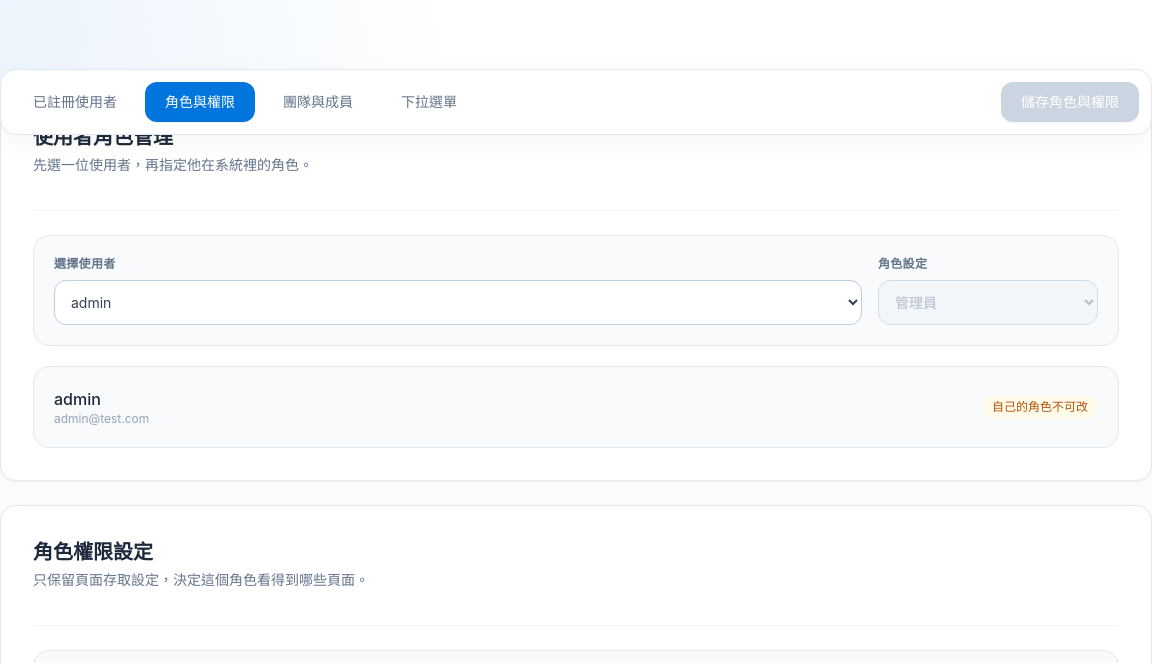
Test case: SettingsPage › organizes settings tabs with registered users before role permissions and without ai tab
Click the button "已註冊使用者" at (75, 102), box [13,82,137,122]
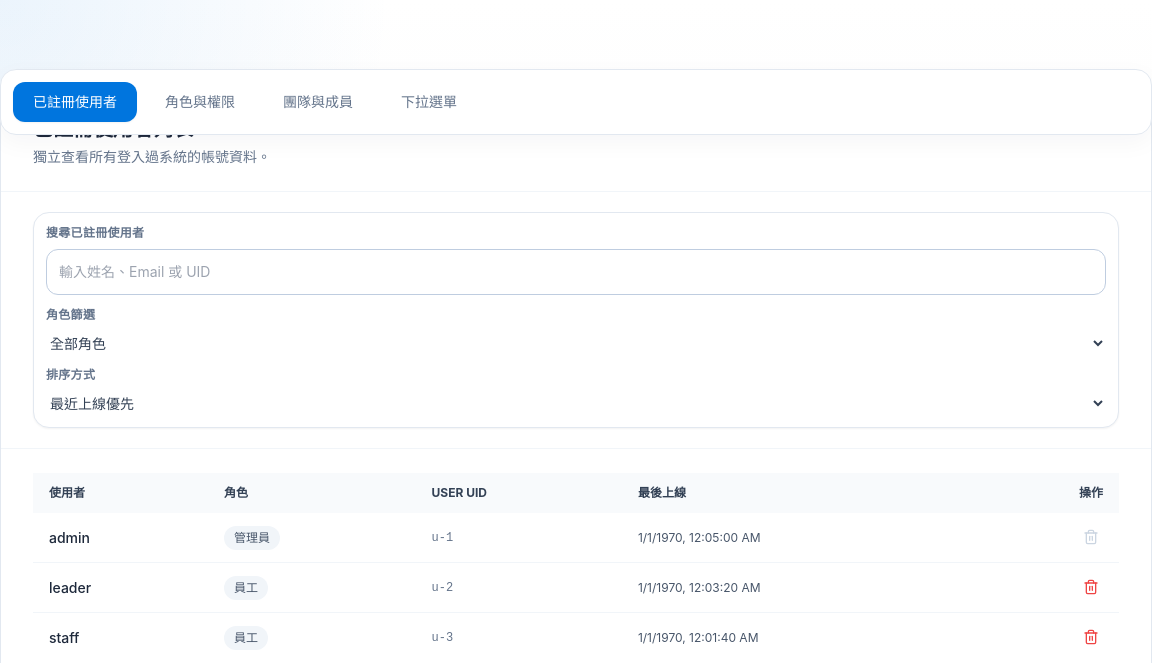
Now the heading "已註冊使用者列表" is shown, box [33,117,193,141]
Click the button "下拉選單" at (429, 102), box [381,82,477,122]
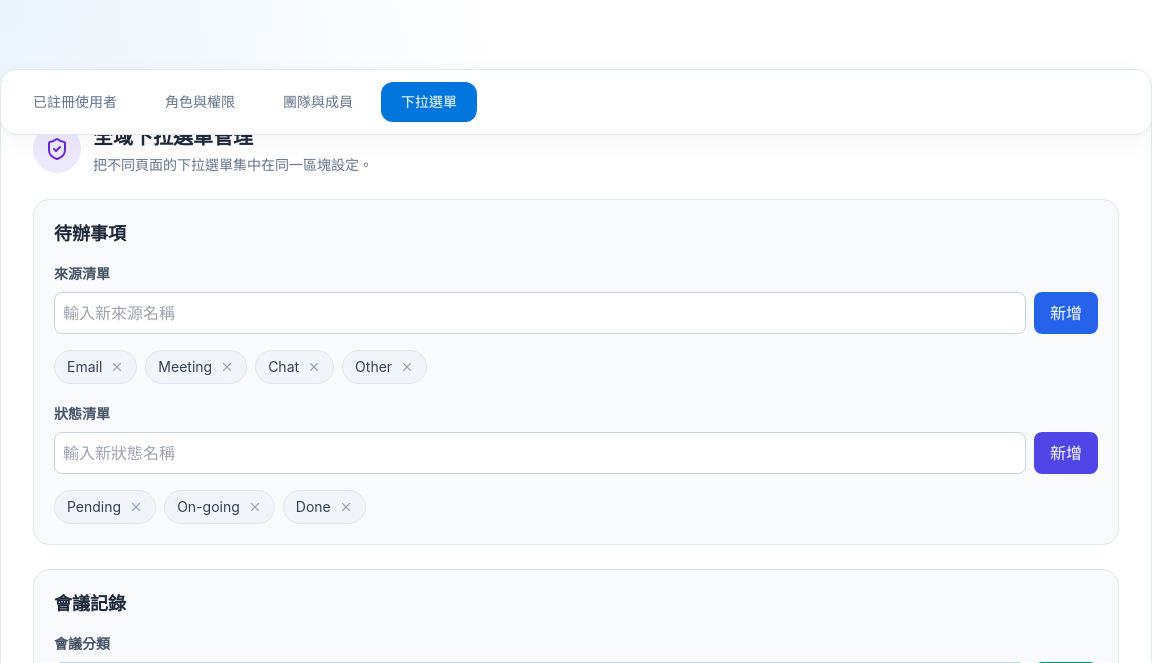
Now the heading "全域下拉選單管理" is shown, box [93,125,253,149]
